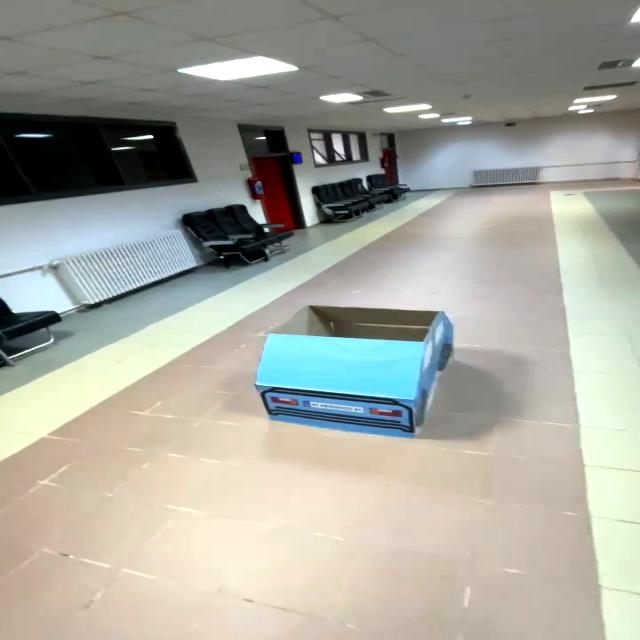blue_car: (235, 290, 479, 451)
